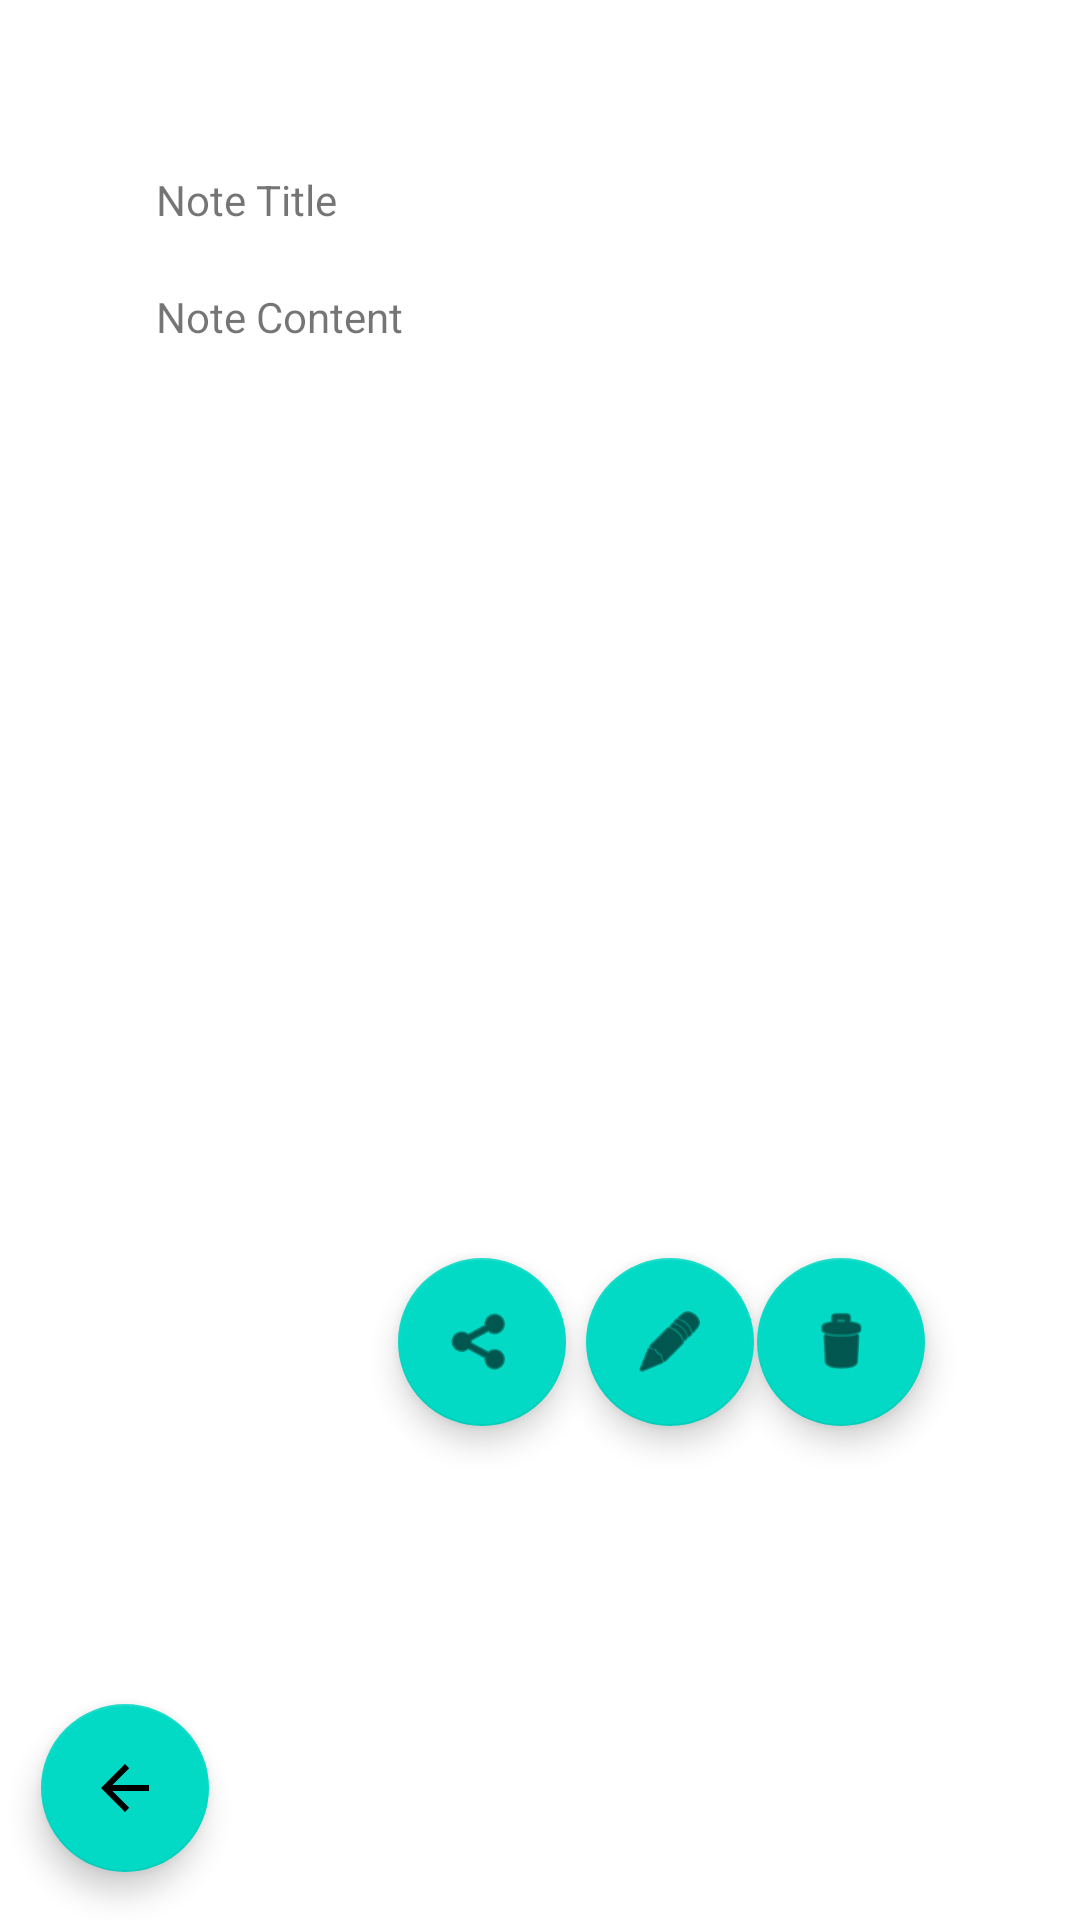

Screen size 1080w x 1920h. Icon name, then its box in pixels as [x1=x1, y1=y1, x2=x2, y2=y2]:
delete: [x1=757, y1=1258, x2=925, y2=1426]
edit: [x1=586, y1=1258, x2=754, y2=1426]
share: [x1=398, y1=1258, x2=566, y2=1426]
